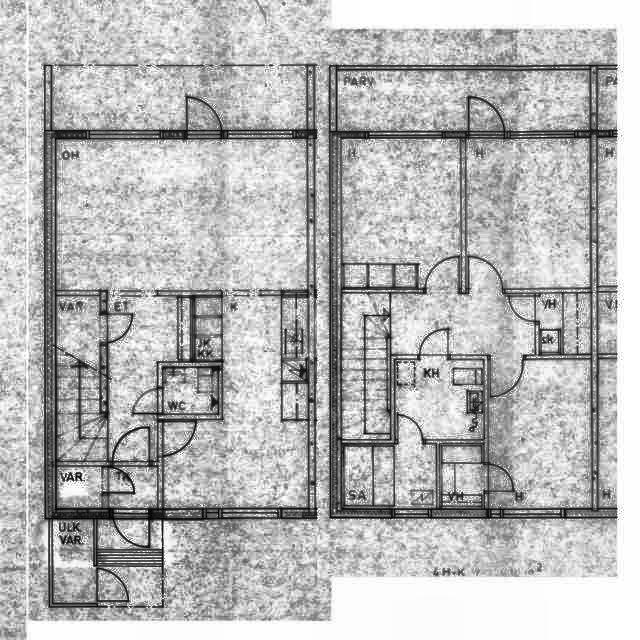room: (466, 138, 591, 288), (341, 139, 461, 288), (488, 359, 592, 508), (395, 360, 483, 439), (342, 444, 436, 508), (540, 293, 591, 354), (440, 445, 484, 509), (163, 368, 218, 413), (108, 466, 157, 508), (57, 466, 102, 508)
